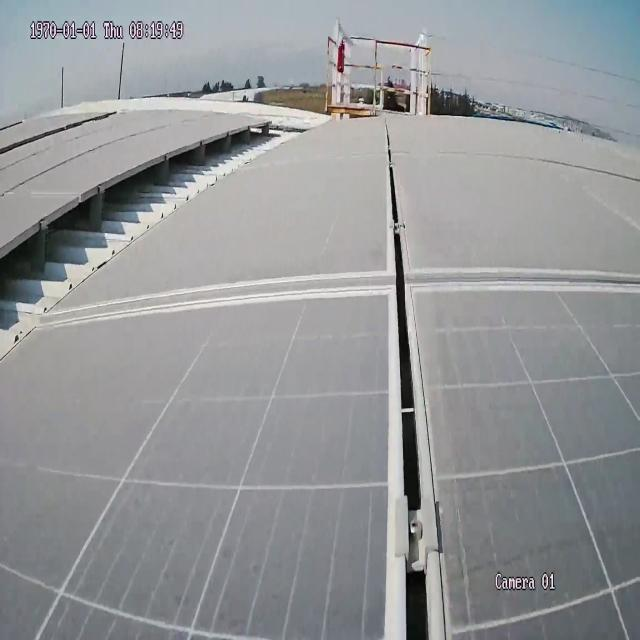interior panel: (37, 110, 640, 640), (2, 122, 163, 201)
outher panel: (0, 118, 325, 373), (1, 107, 128, 162), (1, 116, 29, 137)
